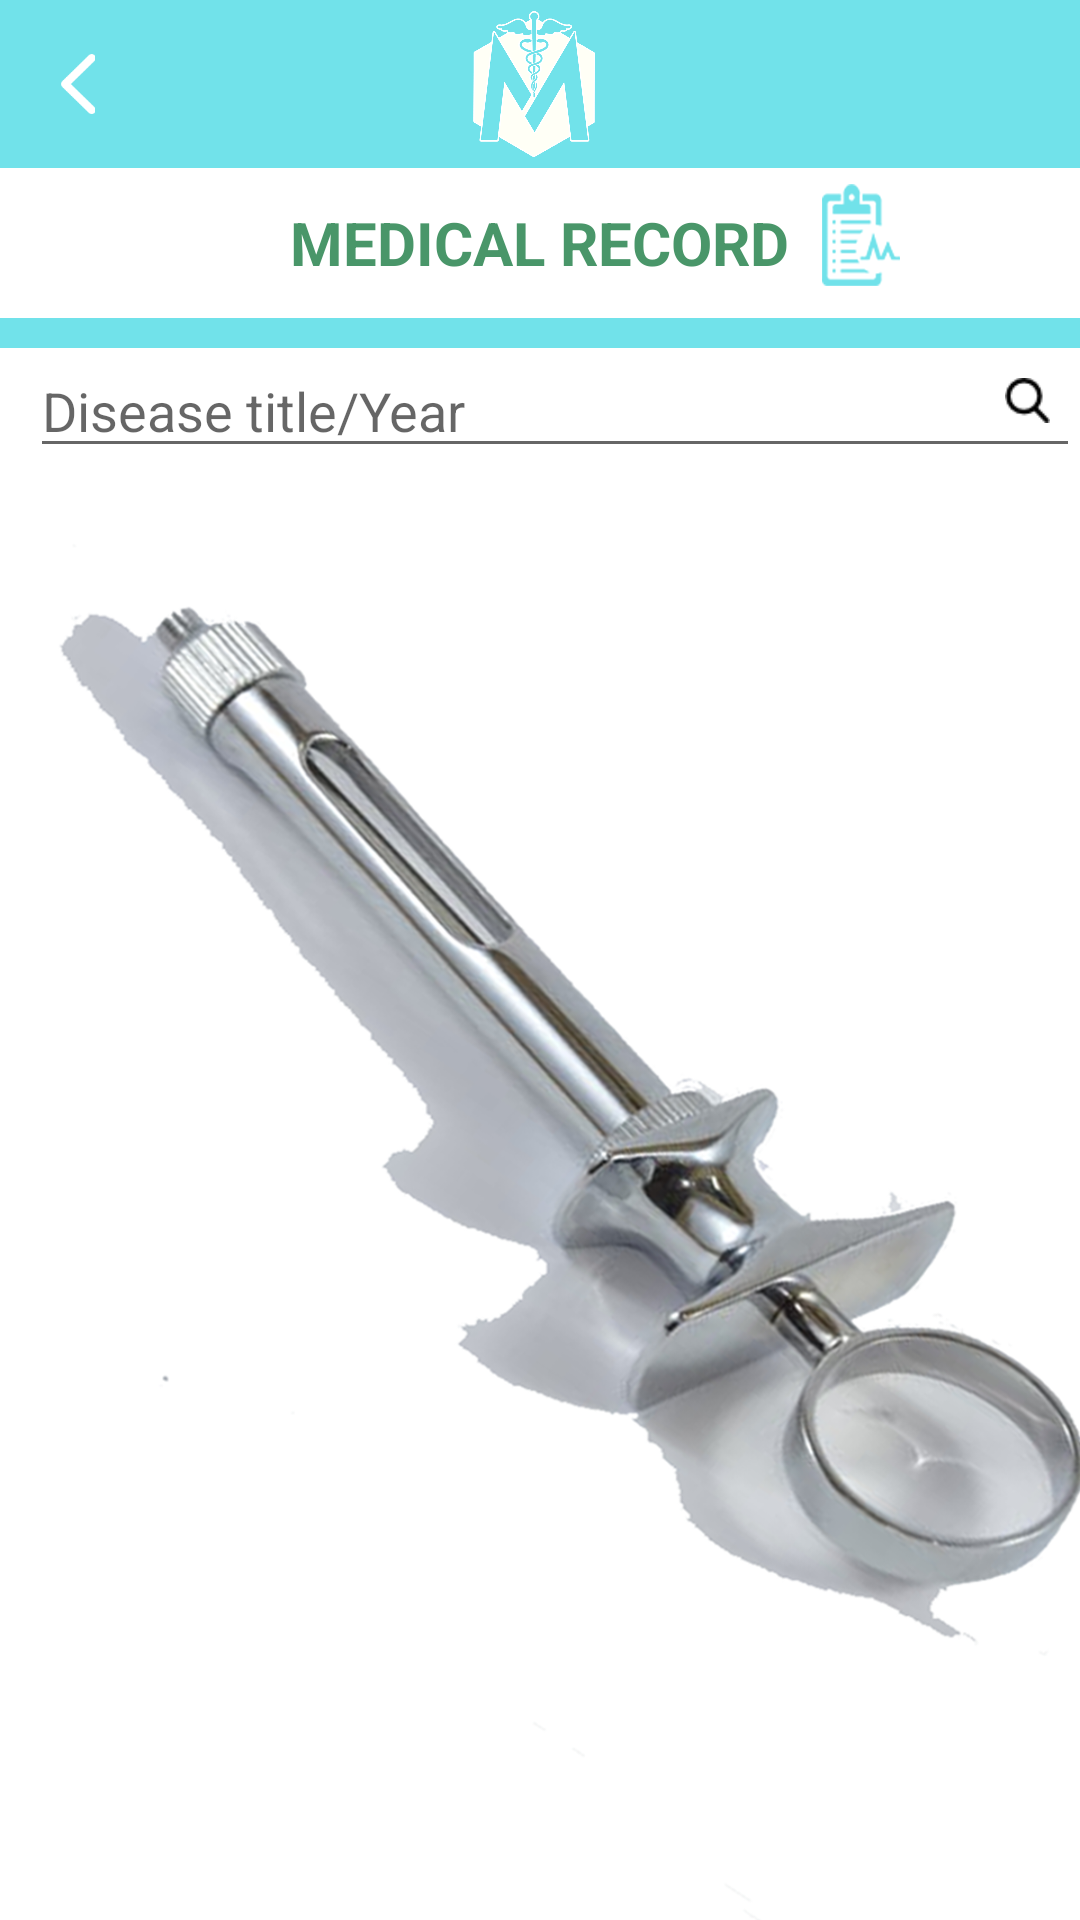

Named icons in this screenshot (1080 × 1920) and their centers, [x,y]:
bak: [78,84]
search: [1027,400]
